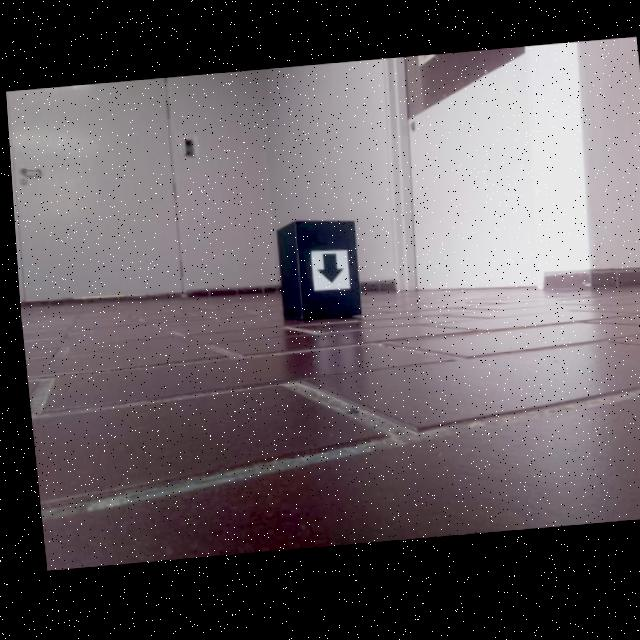DOWN: (312, 256, 340, 288)
